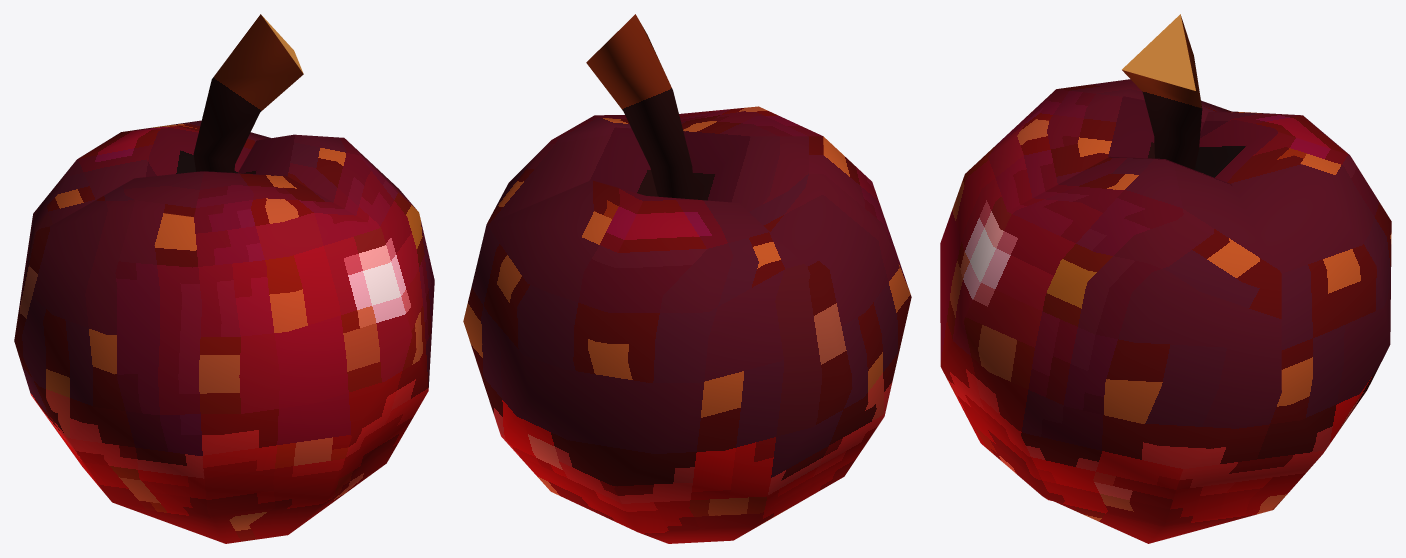
The model's file is fg_apple_d.dae.
3 renders of one model, left to right at view 1: azimuth 30°, elevation 25°; view 2: azimuth 150°, elevation 25°; view 3: azimuth 270°, elevation 25°, orthographic. The views are drawn at different scales.
Parts seen in each view (by area): view 1: fg_apple_d; view 2: fg_apple_d; view 3: fg_apple_d.
Part boxes in pixels (bbox=[...]): fg_apple_d: bbox=[14, 14, 434, 543]; fg_apple_d: bbox=[463, 14, 911, 543]; fg_apple_d: bbox=[940, 14, 1391, 543].
Size of the model in its own units: 13.25 by 16.89 by 13.19.
